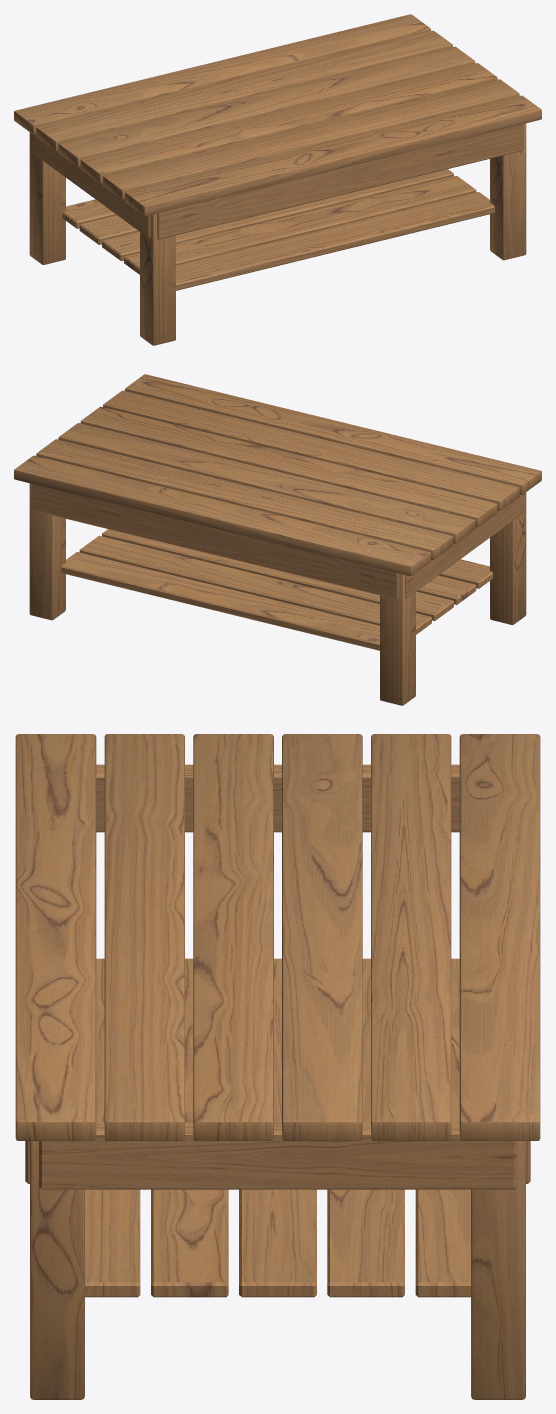
The model's file is mesa_centro_exterior_teca.glb.
3 views of the same model, one above another, from view 1: azimuth 30°, elevation 25°; view 2: azimuth 150°, elevation 25°; view 3: azimuth 270°, elevation 25° (orthographic). The views are drawn at different scales.
Visible parts, largest first — view 1: mesa_centro_exterior_teca; view 2: mesa_centro_exterior_teca; view 3: mesa_centro_exterior_teca.
Boxes of the visible parts, x1,y1,x2,y2 form: mesa_centro_exterior_teca: (14,14,541,345); mesa_centro_exterior_teca: (14,374,541,705); mesa_centro_exterior_teca: (15,734,540,1399).
Size of the model in its own units: 1 by 0.35 by 0.571.
1 material, 1 textured.
